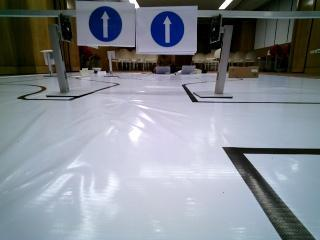straight: (136, 5, 195, 52), (77, 2, 131, 45)
